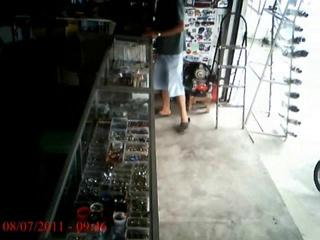Normal: (143, 0, 190, 131)
